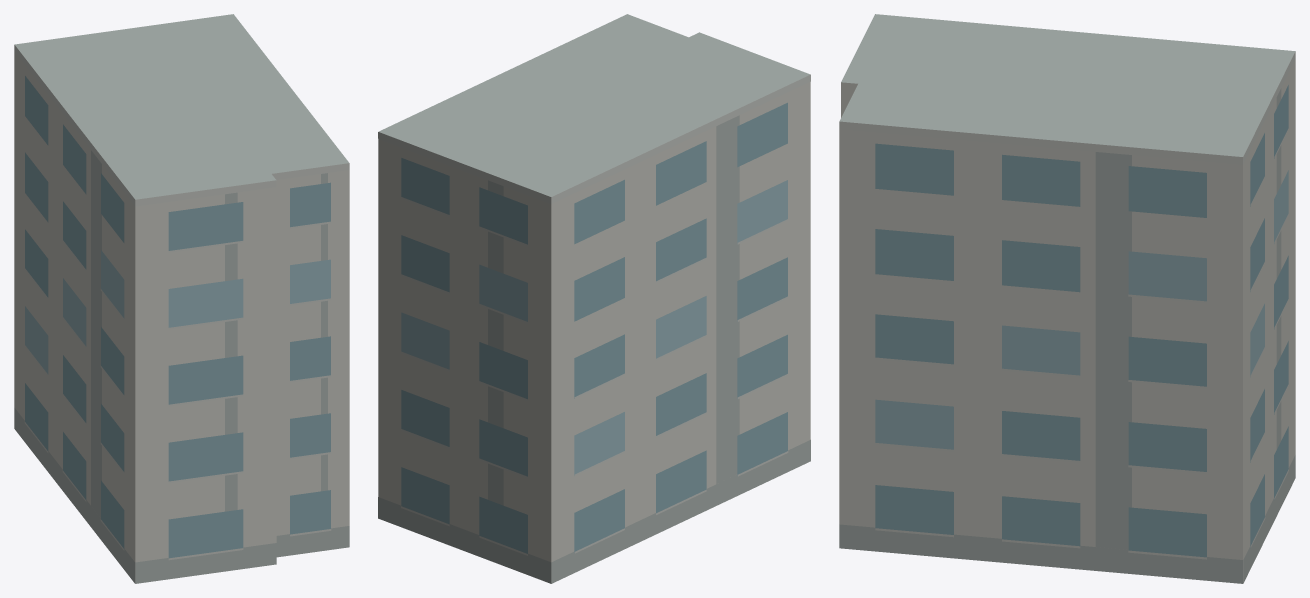
Rendered from residential-e40b893c-1a9f-4681-83ff-b4aa887dd594.glb.
3 renders of one model, left to right at view 1: azimuth 30°, elevation 25°; view 2: azimuth 150°, elevation 25°; view 3: azimuth 270°, elevation 25°, orthographic. The views are drawn at different scales.
Visible parts, largest first — view 1: residential-e40b893c-1a9f-4681-83ff-b4aa887dd594.tmp; view 2: residential-e40b893c-1a9f-4681-83ff-b4aa887dd594.tmp; view 3: residential-e40b893c-1a9f-4681-83ff-b4aa887dd594.tmp.
Boxes of the visible parts, x1=… form: residential-e40b893c-1a9f-4681-83ff-b4aa887dd594.tmp: x1=14, y1=14, x2=349, y2=583; residential-e40b893c-1a9f-4681-83ff-b4aa887dd594.tmp: x1=378, y1=14, x2=810, y2=583; residential-e40b893c-1a9f-4681-83ff-b4aa887dd594.tmp: x1=839, y1=14, x2=1295, y2=583.
Size of the model in its own units: 9.65 by 13.4 by 12.99.
